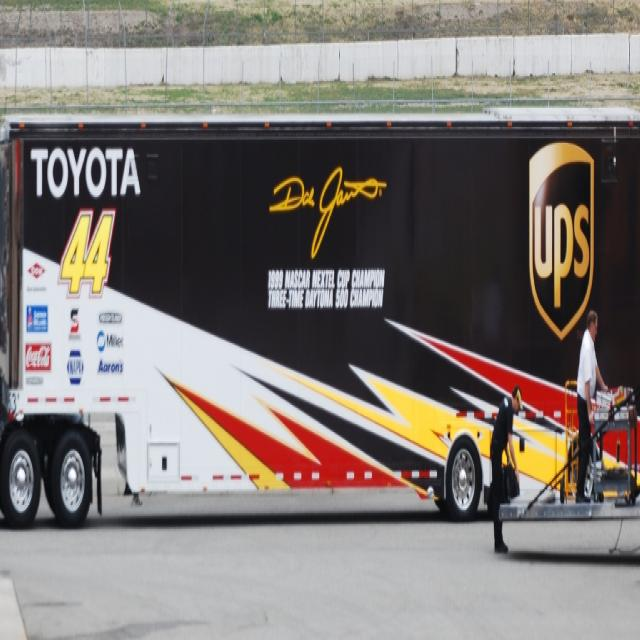ups: (530, 143, 595, 340)
